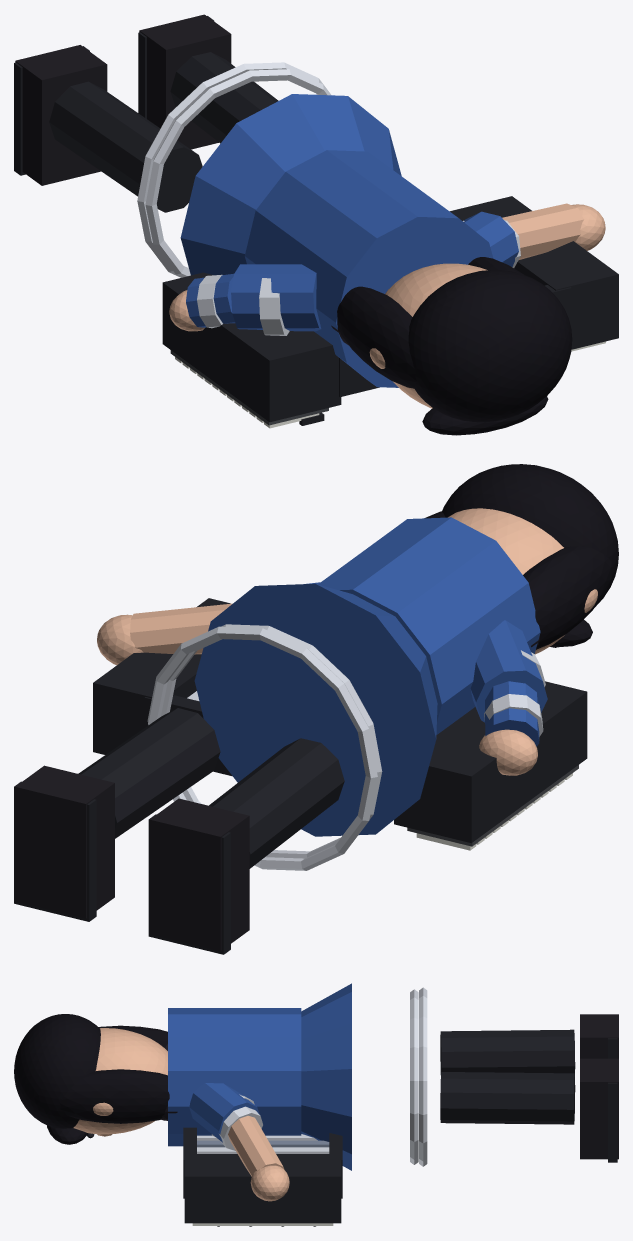
Rendered from lena.glb.
3 renders of one model, top to bottom at view 1: azimuth 30°, elevation 25°; view 2: azimuth 150°, elevation 25°; view 3: azimuth 270°, elevation 25°, orthographic. The views are drawn at different scales.
Visible parts, largest first — view 1: upper tunic, hair cap, flared blue tunic, keyboard housing, black trousers L, boot L, bass button housing, boot R, long black hair lock, left sleeve upper, black trousers R, tunic hem embroidery_1 (+14 smaller); view 2: flared blue tunic, upper tunic, keyboard housing, boot L, boot R, black trousers R, hair cap, black trousers L, tunic hem embroidery, bass button housing, long black hair lock, left sleeve upper (+11 smaller); view 3: upper tunic, bass button housing, flared blue tunic, black trousers R, hair cap, black trousers L, long black hair lock_1, face, boot R, right sleeve upper, right sleeve forearm, tunic hem embroidery (+13 smaller).
Part boxes in pixels (bbox=[...]): upper tunic: bbox=[245, 150, 493, 387]; hair cap: bbox=[408, 270, 572, 422]; flared blue tunic: bbox=[180, 94, 401, 275]; keyboard housing: bbox=[162, 272, 341, 422]; black trousers L: bbox=[49, 81, 202, 212]; boot L: bbox=[15, 45, 107, 185]; bass button housing: bbox=[450, 196, 618, 349]; boot R: bbox=[139, 14, 231, 149]; long black hair lock: bbox=[337, 286, 417, 388]; left sleeve upper: bbox=[231, 264, 321, 331]; black trousers R: bbox=[170, 52, 278, 143]; tunic hem embroidery_1: bbox=[145, 69, 330, 277]; flared blue tunic: bbox=[194, 583, 437, 836]; upper tunic: bbox=[318, 517, 540, 734]; keyboard housing: bbox=[394, 681, 587, 843]; boot L: bbox=[150, 798, 249, 951]; boot R: bbox=[15, 765, 114, 918]; black trousers R: bbox=[78, 708, 220, 838]; hair cap: bbox=[442, 464, 618, 606]; black trousers L: bbox=[209, 738, 344, 868]; tunic hem embroidery: bbox=[147, 626, 377, 870]; bass button housing: bbox=[93, 598, 230, 754]; long black hair lock: bbox=[523, 546, 613, 649]; left sleeve upper: bbox=[470, 620, 547, 722]; upper tunic: bbox=[168, 1008, 301, 1146]; bass button housing: bbox=[184, 1154, 341, 1223]; flared blue tunic: bbox=[301, 983, 351, 1170]; black trousers R: bbox=[440, 1072, 575, 1124]; hair cap: bbox=[14, 1014, 100, 1128]; black trousers L: bbox=[440, 1029, 575, 1074]; long black hair lock_1: bbox=[59, 1069, 169, 1123]; face: bbox=[73, 1028, 167, 1134]; boot R: bbox=[580, 1058, 618, 1159]; right sleeve upper: bbox=[189, 1083, 259, 1142]; right sleeve forearm: bbox=[228, 1115, 284, 1176]; tunic hem embroidery: bbox=[419, 987, 427, 1166].
Size of the model in its own units: 1.98 by 1.06 by 3.4.
